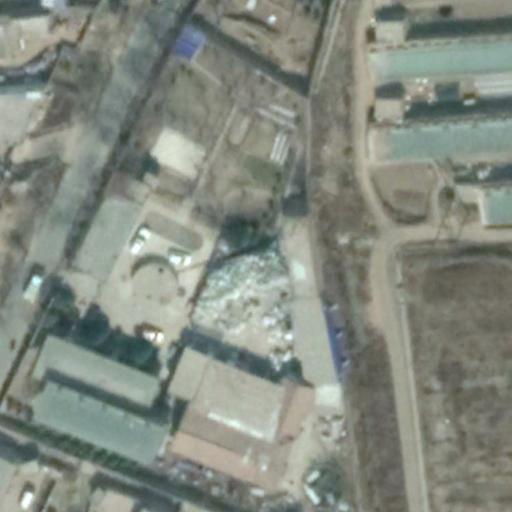msw: (193, 249, 289, 334)
